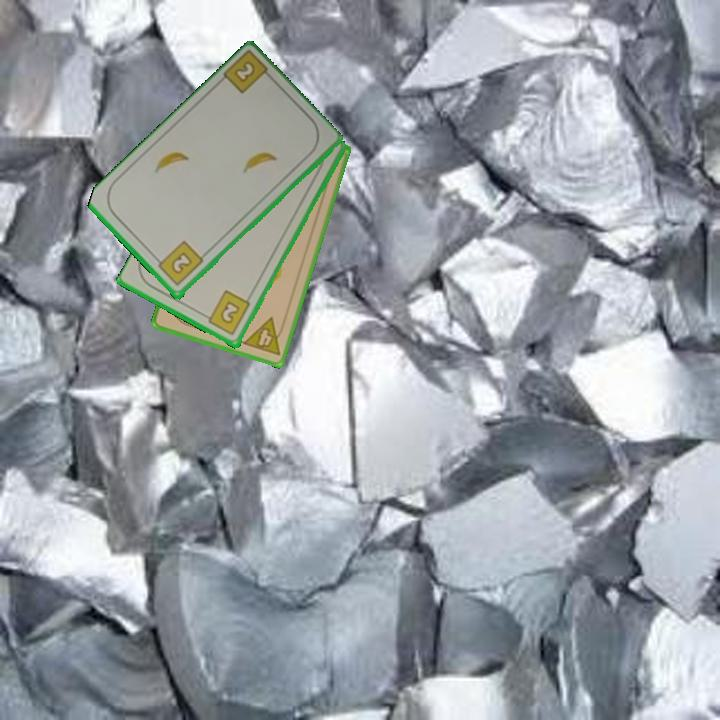2b: (219, 49, 277, 97), (152, 238, 206, 289), (200, 287, 253, 338)
4p: (239, 314, 289, 359)
